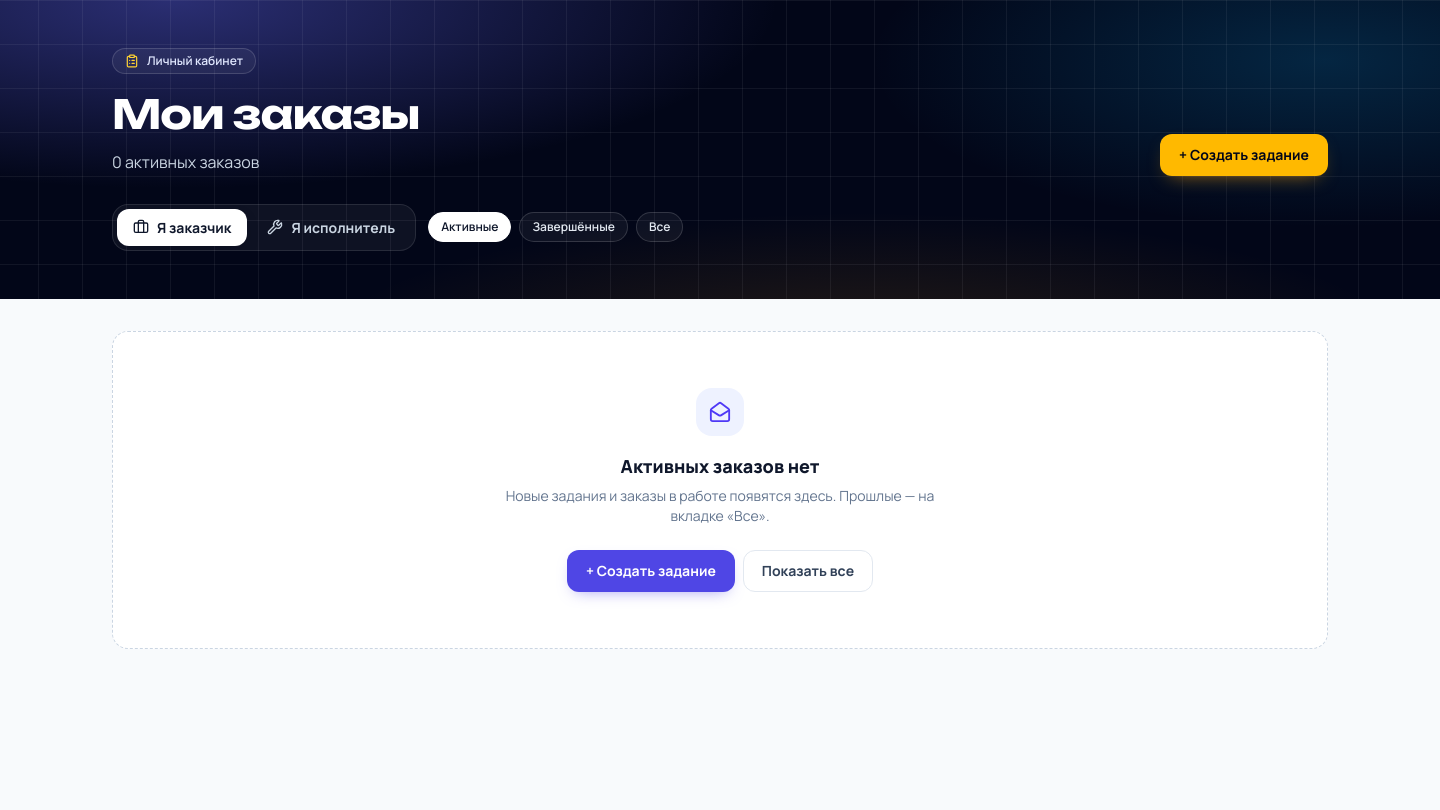
it: MyTasksPage › «Показать все» открывает все заказы, включая завершённые
Click the button "Показать все": (808, 571) [743,550,873,592]
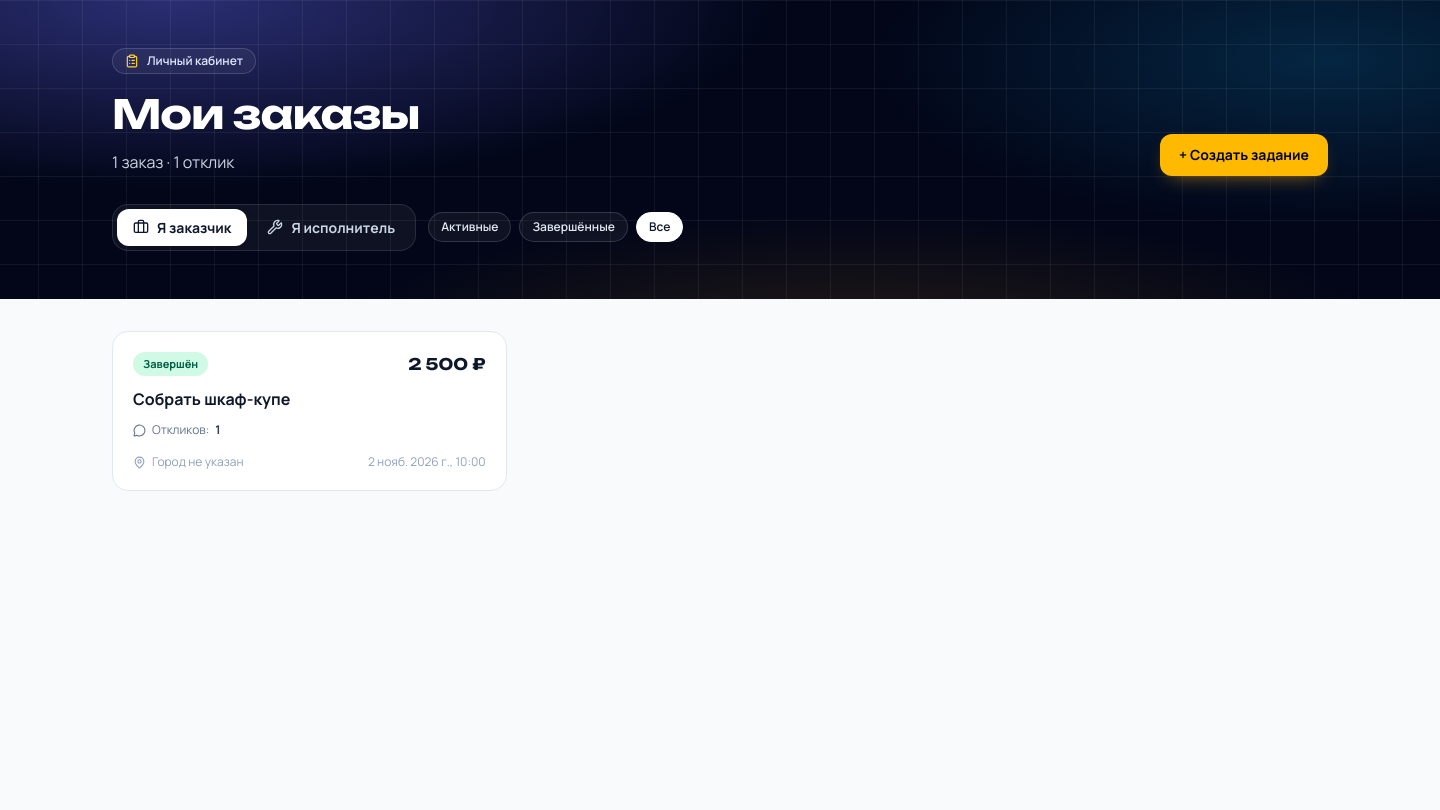
Expected: the heading "Собрать шкаф-купе" is shown, [133,388,290,410]
Expected: the text "1 заказ · 1 отклик" is shown, [112,151,234,173]
